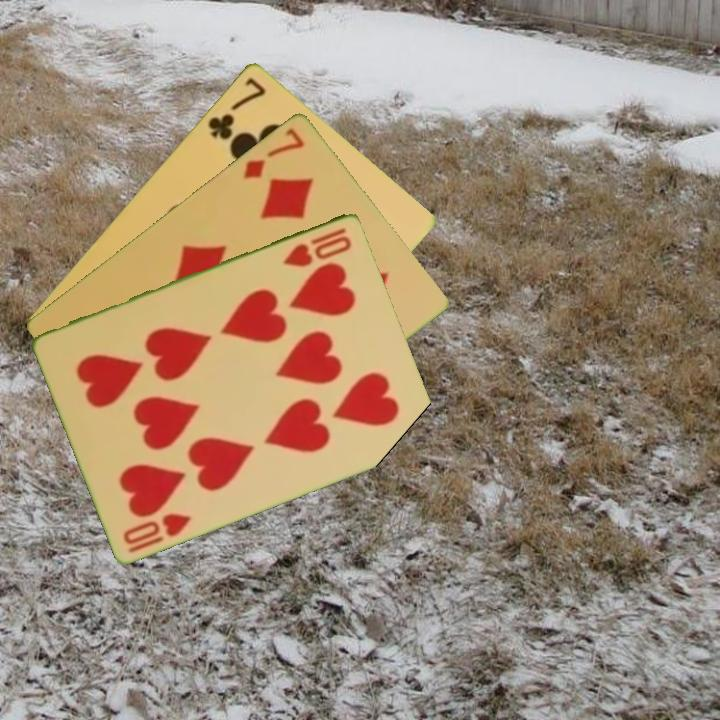10h: (280, 224, 355, 270), (120, 509, 194, 555)
7c: (204, 73, 269, 143)
7d: (239, 123, 308, 181)
